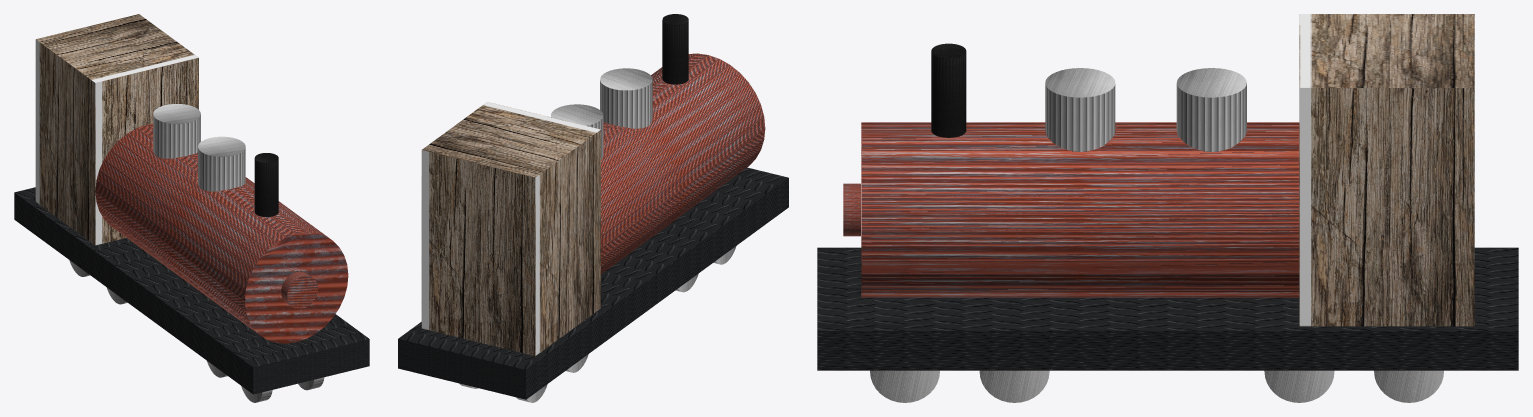
The model's file is train.fbx.
3 renders of one model, left to right at view 1: azimuth 30°, elevation 25°; view 2: azimuth 150°, elevation 25°; view 3: azimuth 270°, elevation 25°, orthographic. The views are drawn at different scales.
Visible parts, largest first — view 1: Cylinder, Cube, Cube.001, Cylinder.003, Cylinder.004, Cylinder.002, Cylinder.001; view 2: Cube, Cube.001, Cylinder, Cylinder.003, Cylinder.002, Cylinder.004; view 3: Cylinder, Cube, Cube.001, Cylinder.004, Cylinder.003, Cylinder.002, Cylinder.010, Cylinder.007, Cylinder.011, Cylinder.005, Cylinder.001.
Part boxes in pixels (x1,y1,x2,y2): Cylinder: [95, 123, 348, 343]; Cube: [35, 14, 198, 245]; Cube.001: [14, 187, 369, 394]; Cylinder.003: [198, 136, 245, 191]; Cylinder.004: [153, 104, 200, 158]; Cylinder.002: [254, 153, 278, 216]; Cylinder.001: [281, 271, 318, 309]; Cube: [421, 102, 600, 356]; Cube.001: [398, 167, 788, 399]; Cylinder: [601, 53, 765, 274]; Cylinder.003: [600, 68, 652, 128]; Cylinder.002: [662, 14, 688, 84]; Cylinder.004: [551, 104, 603, 159]; Cylinder: [861, 122, 1299, 297]; Cube: [1299, 14, 1474, 326]; Cube.001: [817, 247, 1518, 370]; Cylinder.004: [1176, 68, 1246, 151]; Cylinder.003: [1045, 68, 1115, 151]; Cylinder.002: [931, 43, 966, 137]; Cylinder.010: [1264, 370, 1334, 402]; Cylinder.007: [979, 370, 1049, 402]; Cylinder.011: [1374, 370, 1443, 402]; Cylinder.005: [870, 370, 939, 402]; Cylinder.001: [843, 183, 860, 236].
Size of the model in its own units: 225 by 415 by 800.
Materials: 15 (15 with a texture image).
